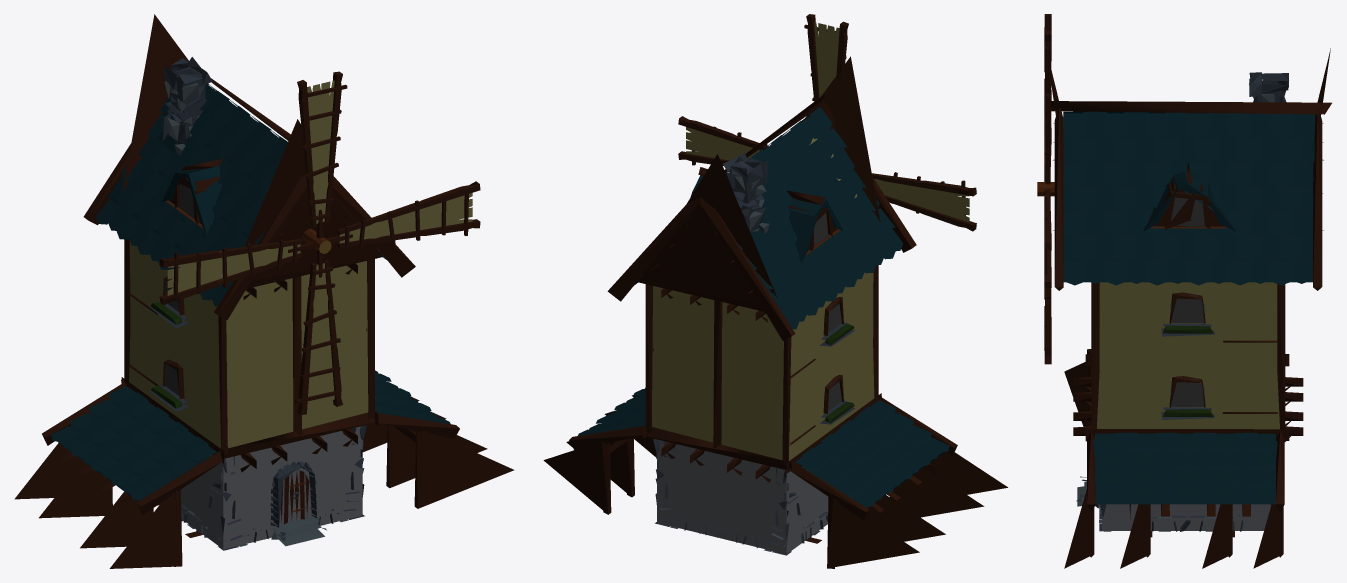
File: Mill.fbx
3 renders of one model, left to right at view 1: azimuth 30°, elevation 25°; view 2: azimuth 150°, elevation 25°; view 3: azimuth 270°, elevation 25°, orthographic. The views are drawn at different scales.
Parts seen in each view (by area): view 1: High_Mill, Low_Mill, High_Mill_Blades; view 2: High_Mill, Low_Mill, High_Mill_Blades; view 3: High_Mill, Low_Mill, High_Mill_Blades.
Boxes of the visible parts, x1=… form: High_Mill: x1=42, y1=57, x2=459, y2=566; Low_Mill: x1=14, y1=14, x2=514, y2=568; High_Mill_Blades: x1=159, y1=71, x2=480, y2=414; High_Mill: x1=569, y1=94, x2=957, y2=568; Low_Mill: x1=543, y1=56, x2=1007, y2=568; High_Mill_Blades: x1=678, y1=14, x2=976, y2=231; High_Mill: x1=1051, y1=72, x2=1331, y2=557; Low_Mill: x1=1051, y1=48, x2=1330, y2=568; High_Mill_Blades: x1=1037, y1=14, x2=1054, y2=364.
Size of the model in its own units: 432 by 480 by 271.
